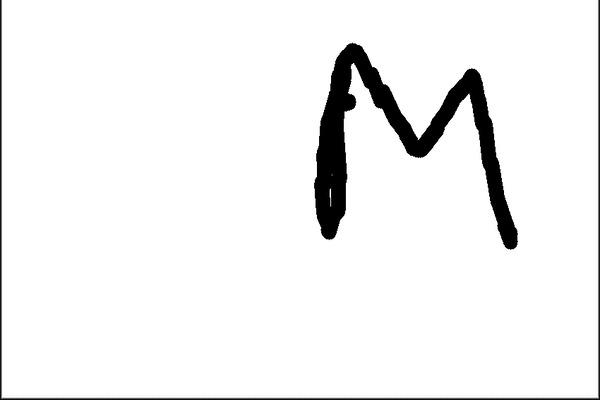M: (307, 38, 523, 254)
